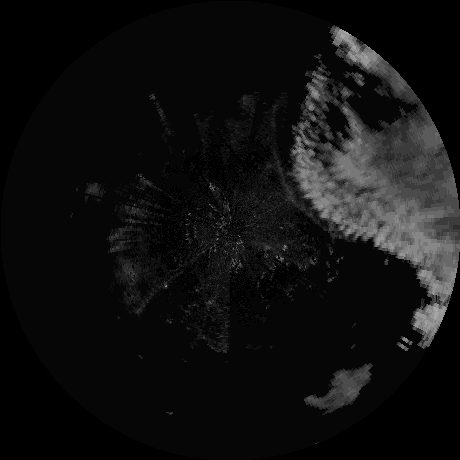frontgust: (272, 154, 327, 228)
